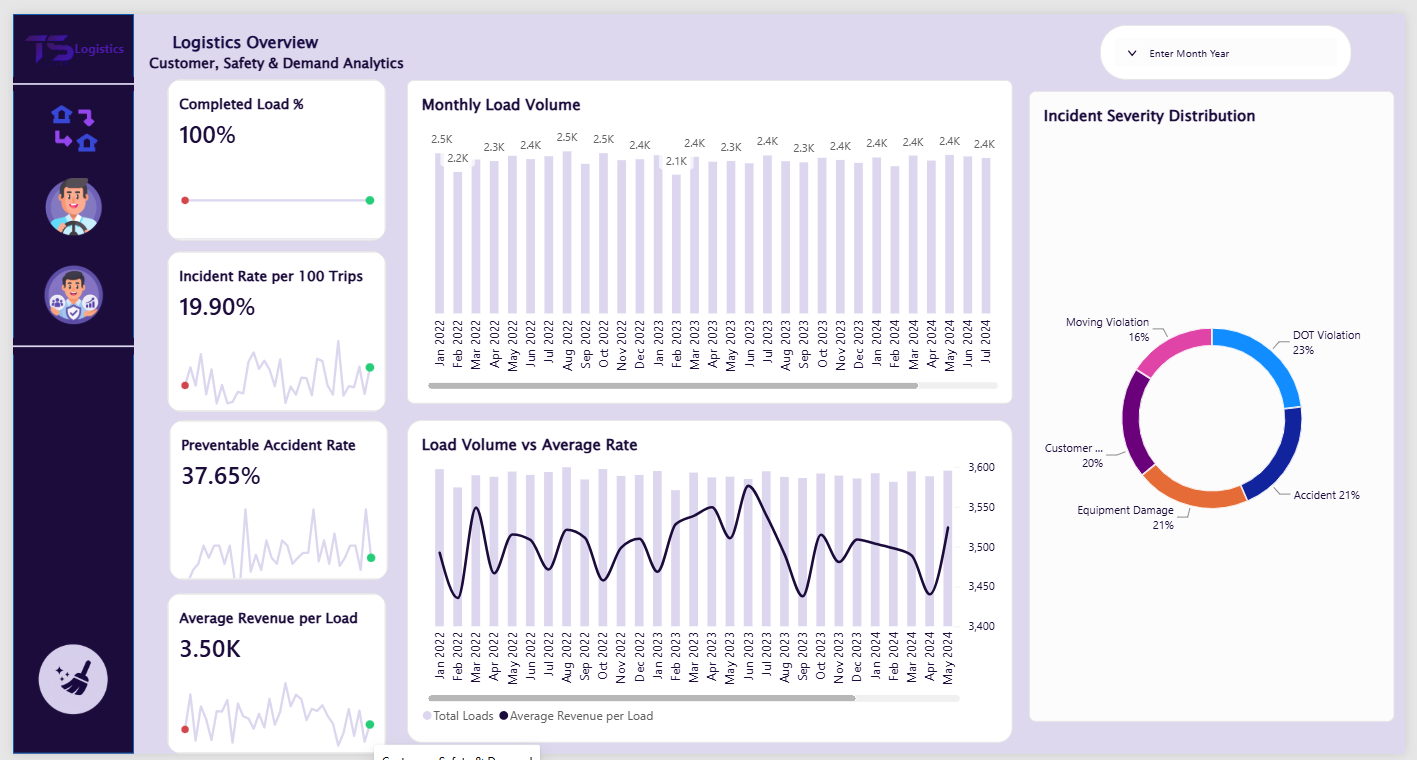

Layout of this report page (visuals, bound fields, positions):
{"tool":"powerbi","page":{"name":"Customer, Safety & Demand","canvas":[1600,850],"ordinal":2},"visuals":[{"type":"shape","box":[0,0,139,850],"z":0,"group":"g2"},{"type":"textbox","box":[165,20,205,31],"z":1000,"group":"g1"},{"type":"textbox","box":[70,30,58,21],"z":2000,"group":"g2"},{"type":"textbox","box":[137.3,44.6,332.5,33.7],"z":3000,"group":"g1"},{"type":"shape","box":[0,72,139,16],"z":4000,"group":"g2"},{"type":"image","box":[29,189,82,66],"z":5000,"group":"g2"},{"type":"image","box":[7,20,74,42],"z":6000,"group":"g2"},{"type":"image","box":[41,96,58,70],"z":7000,"group":"g2"},{"type":"image","box":[31,288,77,69],"z":8000,"group":"g2"},{"type":"shape","box":[0,372,139,19],"z":9000,"group":"g2"},{"type":"cardVisual","fields":{"Data":["Customer Analysis Measures.Completed Load %"]},"box":[177.1,74.7,252.2,185.6],"z":10000,"group":"g3"},{"type":"cardVisual","fields":{"Data":["Customer Analysis Measures.Average Revenue per Load"]},"box":[177.1,665.1,252,185],"z":11000,"group":"g3"},{"type":"cardVisual","fields":{"Data":["Safety Metrics Measures.Incident Rate per 100 Trips"]},"box":[177.1,272.3,252.2,185],"z":12000,"group":"g3"},{"type":"cardVisual","fields":{"Data":["Safety Metrics Measures.Preventable Accident Rate"]},"box":[179.5,466.3,252,184.3],"z":13000,"group":"g3"},{"type":"textSlicer","fields":{"Values":["Calendar.Month Year"]},"box":[1249.4,12.6,288.5,63.2],"z":14000,"group":"g3"},{"type":"image","box":[1457.5,19.5,80.5,50.6],"z":15000},{"type":"image","box":[11.5,716.1,116.1,97.7],"z":16000,"group":"g2"},{"type":"lineClusteredColumnComboChart","title":"Monthly Load Volume","fields":{"Y":["Customer Analysis Measures.Total Loads"],"Category":["Calendar.Month Year"]},"box":[453,75.9,696.4,372.3],"z":17000,"group":"g3"},{"type":"lineClusteredColumnComboChart","title":"Load Volume vs Average Rate","fields":{"Category":["Calendar.Month Year"],"Y":["Customer Analysis Measures.Total Loads"],"Y2":["Customer Analysis Measures.Average Revenue per Load"]},"box":[453,466.3,696.4,371.1],"z":18000,"group":"g3"},{"type":"donutChart","title":"Incident Severity Distribution","fields":{"Category":["safety_incidents.incident_type"],"Y":["Safety Metrics Measures.Total Incidents"]},"box":[1167.5,88,420.5,725.3],"z":19000,"group":"g3"},{"type":"group","id":"g1","title":"Group 1","box":[137.3,20,332.5,58.3],"z":19001,"group":"g3"},{"type":"group","id":"g2","title":"Group 2","box":[0,0,139,850],"z":19002,"group":"g3"},{"type":"group","id":"g3","title":"Group 3","box":[0,0,1588,850.1],"z":19003}]}

Visuals, with their boxes on the page's 1600x850 design canvas (x1, y1, x2, y2). These are canvas units, not pixel positions in the 1417x760 screenshot, which may show the page scaled, cropped or inside an application window:
shape: (0, 0, 139, 850)
textbox: (165, 20, 370, 51)
textbox: (70, 30, 128, 51)
textbox: (137, 45, 470, 78)
shape: (0, 72, 139, 88)
image: (29, 189, 111, 255)
image: (7, 20, 81, 62)
image: (41, 96, 99, 166)
image: (31, 288, 108, 357)
shape: (0, 372, 139, 391)
cardVisual - Customer Analysis Measures.Completed Load %: (177, 75, 429, 260)
cardVisual - Customer Analysis Measures.Average Revenue per Load: (177, 665, 429, 850)
cardVisual - Safety Metrics Measures.Incident Rate per 100 Trips: (177, 272, 429, 457)
cardVisual - Safety Metrics Measures.Preventable Accident Rate: (180, 466, 432, 651)
textSlicer - Calendar.Month Year: (1249, 13, 1538, 76)
image: (1458, 20, 1538, 70)
image: (12, 716, 128, 814)
"Monthly Load Volume" lineClusteredColumnComboChart: (453, 76, 1149, 448)
"Load Volume vs Average Rate" lineClusteredColumnComboChart: (453, 466, 1149, 837)
"Incident Severity Distribution" donutChart: (1168, 88, 1588, 813)
"Group 1" group: (137, 20, 470, 78)
"Group 2" group: (0, 0, 139, 850)
"Group 3" group: (0, 0, 1588, 850)
